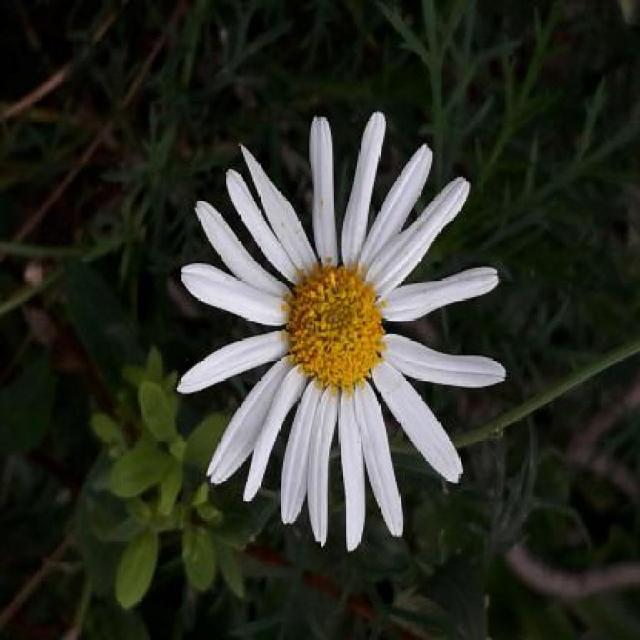flower: (168, 100, 506, 540)
